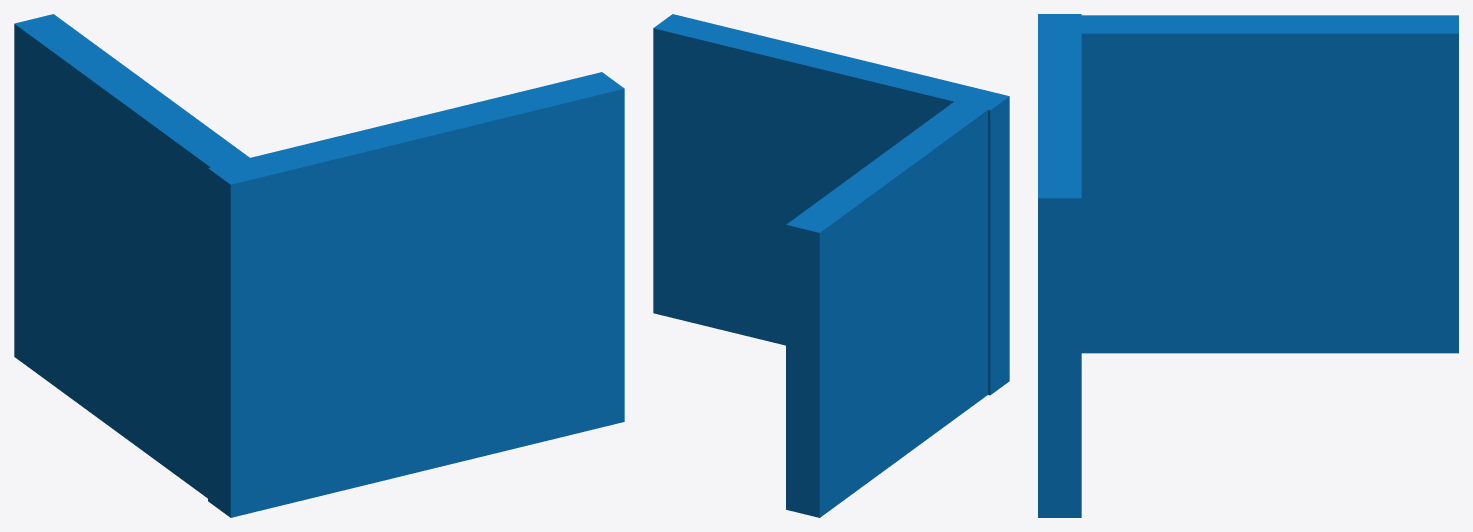
Rendered from Corner_Wall.obj.
The picture shows the model from 3 angles, left to right: view 1: azimuth 30°, elevation 25°; view 2: azimuth 150°, elevation 25°; view 3: azimuth 270°, elevation 25°; orthographic projection. The views are drawn at different scales.
Visible parts, largest first — view 1: Cube, Cube.001; view 2: Cube, Cube.001; view 3: Cube.001, Cube.
Part boxes in pixels (x1,y1,x2,y2): Cube: (208, 72, 624, 517); Cube.001: (14, 14, 266, 498); Cube: (653, 14, 1009, 395); Cube.001: (786, 90, 987, 517); Cube.001: (1046, 15, 1458, 353); Cube: (1038, 14, 1081, 517).
Bounding box in the file's own units: 19.76 × 15.97 × 19.05.
